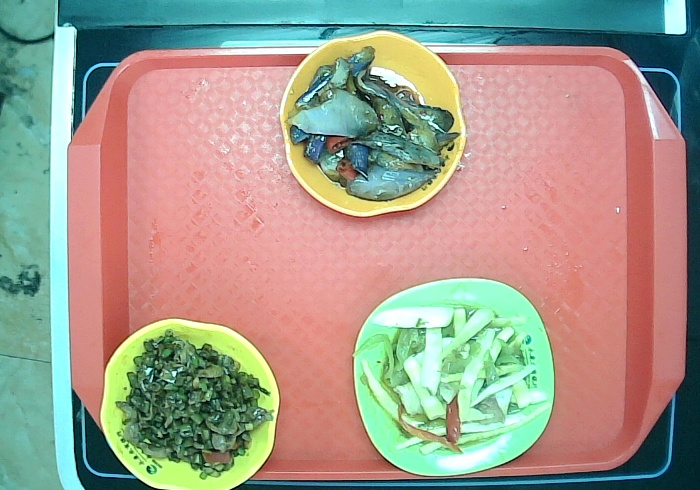YKMZ-Huang_Se_Ao_Bian_Wan: (98, 318, 281, 490)
YKMZ-Ju_Se_Ao_Bian_Wan: (277, 29, 465, 217)
YKMZ-Lv_Se_Fang_Die: (350, 275, 555, 476)
